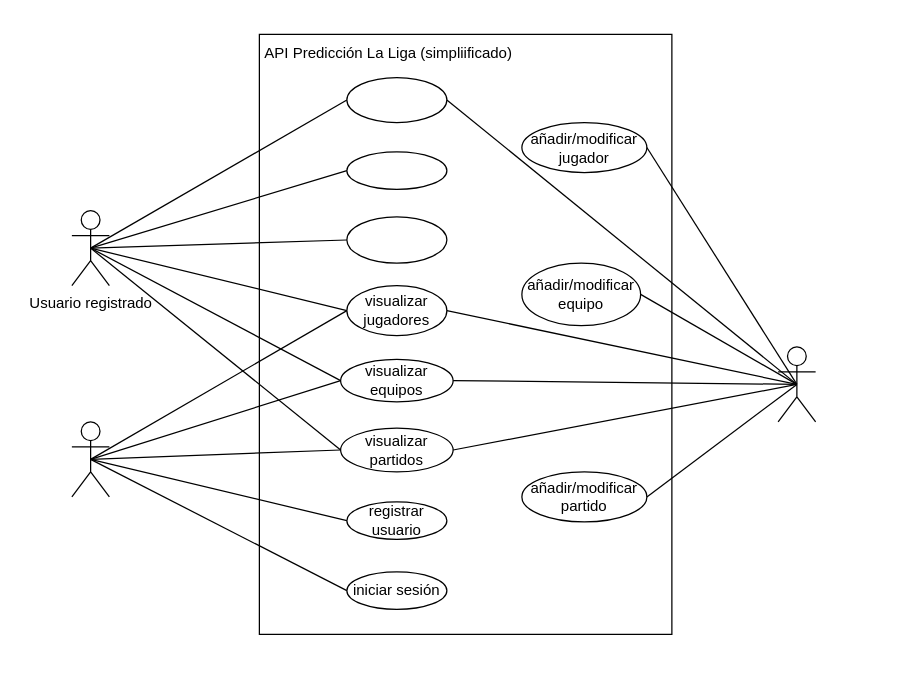
Image size: 919x681. Some labels were removed from this diagram. The box of each missing label's shape, as (x1, y1, x2, y2) in pixels:
Administrador: (777, 346, 816, 422)
cerrar sesión: (346, 151, 447, 189)
modificar contraseña: (346, 216, 447, 263)
realizar predicción: (346, 76, 447, 122)
Usuario anónimo: (71, 421, 109, 497)
